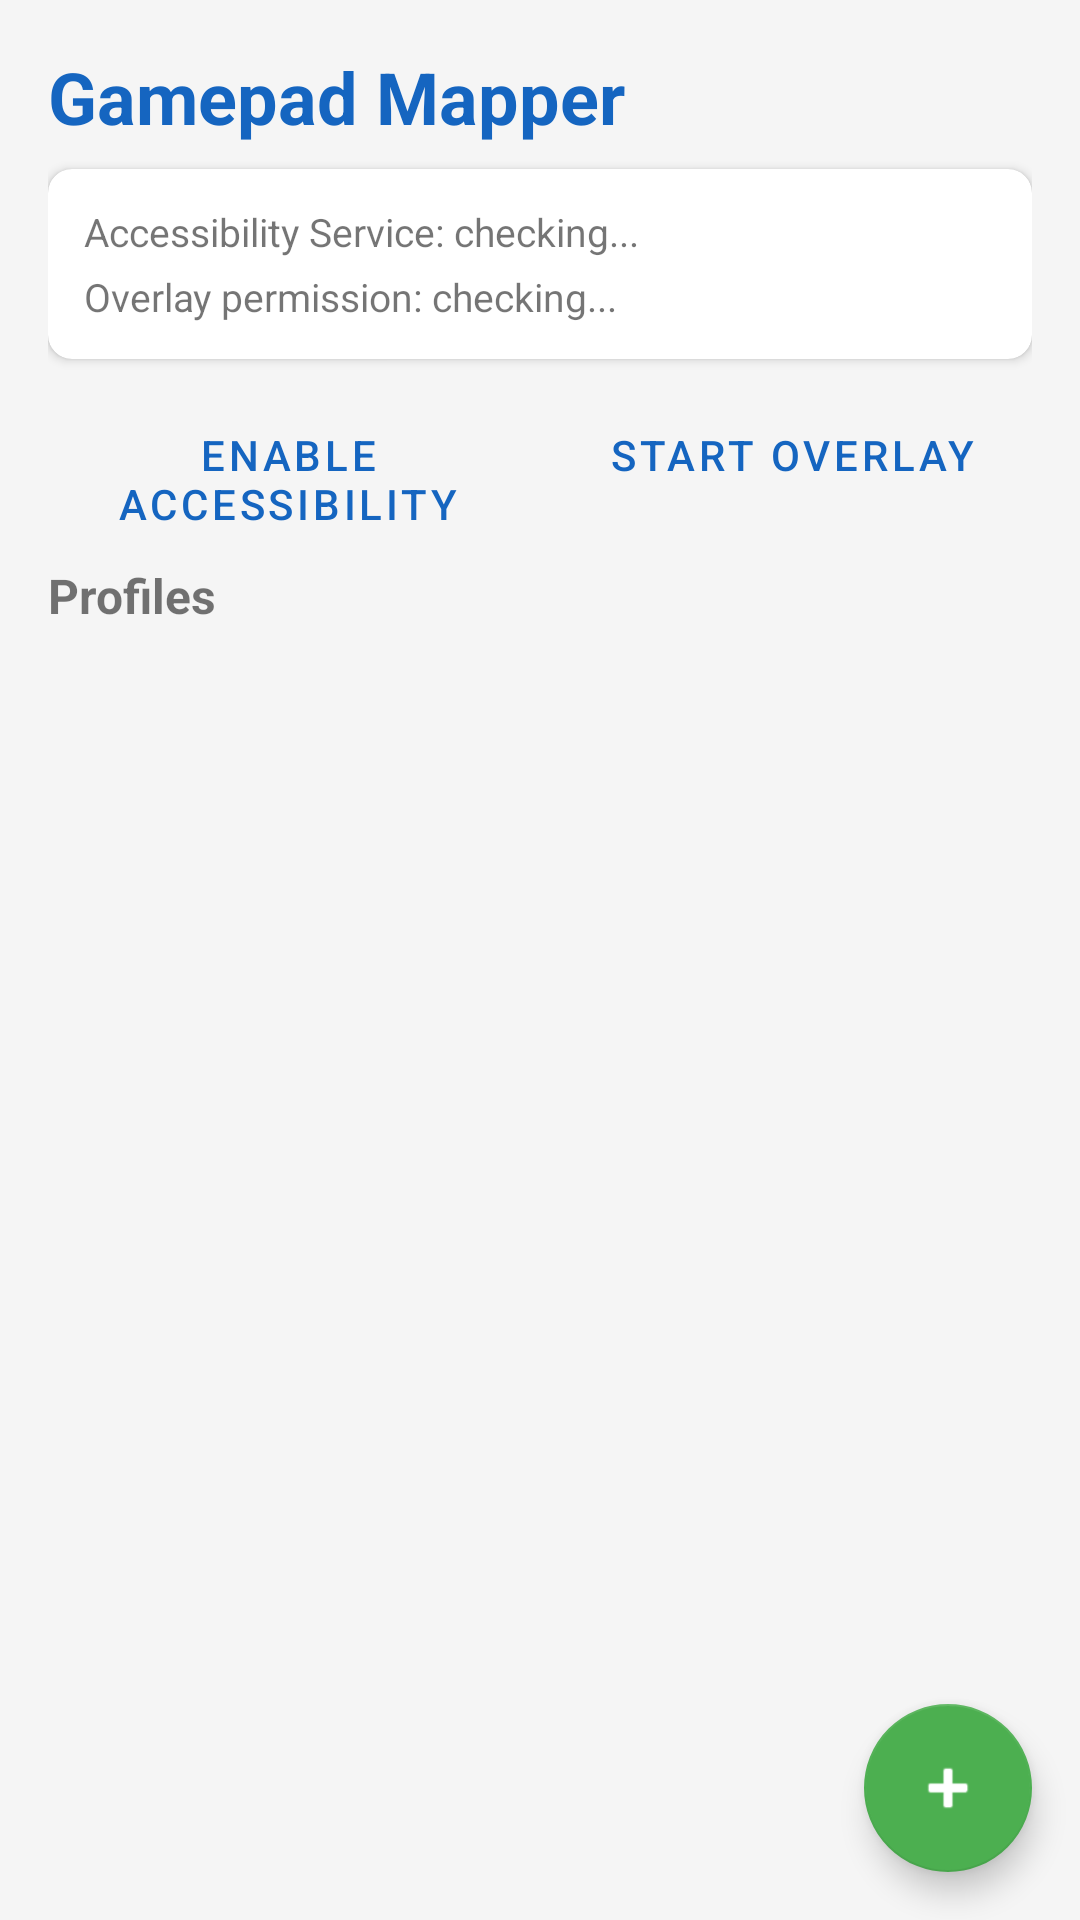

Icon bounding boxes for this 1080x1920 phone screenshot, format (x1, y1, x2, y2):
Add Profile: (864, 1704, 1032, 1872)
